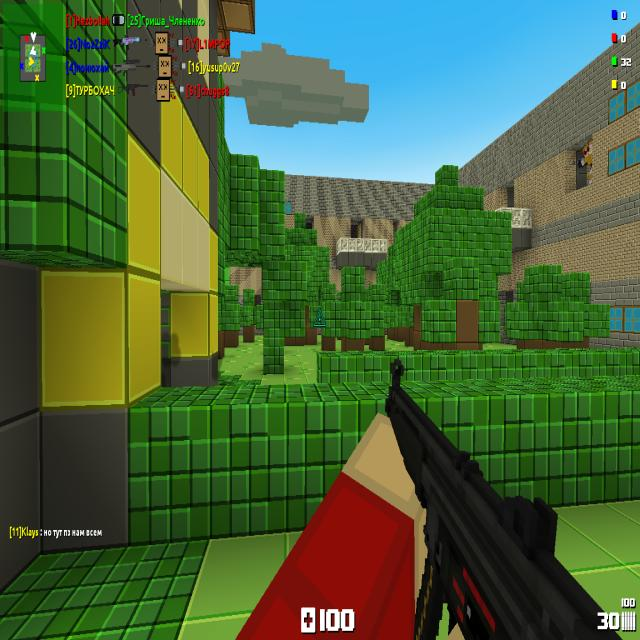enemy: (578, 140, 592, 186)
